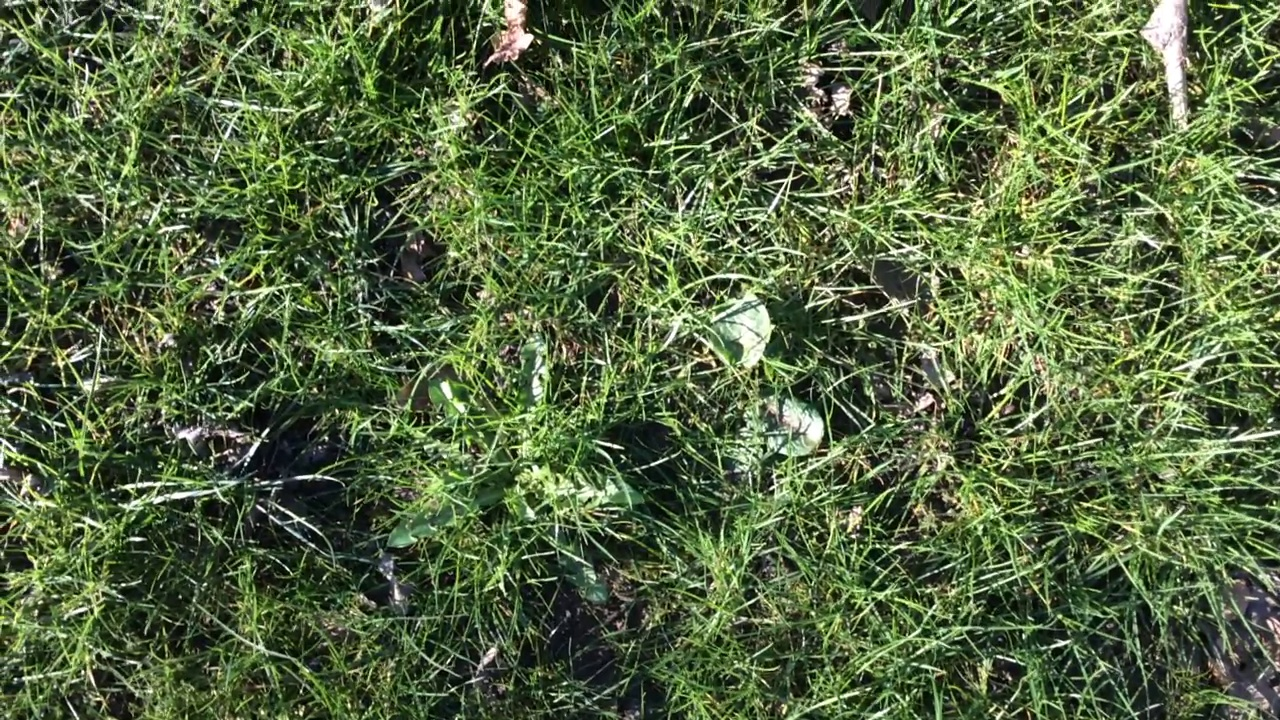rumex: (753, 401, 827, 457), (718, 299, 773, 368)
